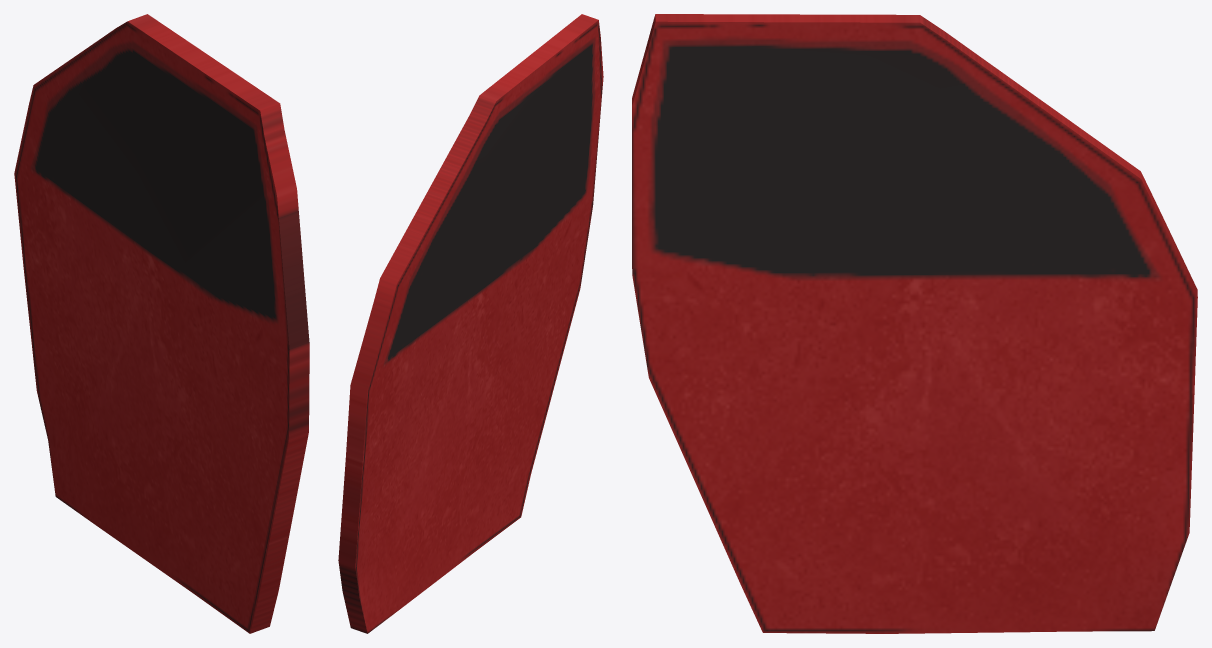
Rendered from door.gltf.
The picture shows the model from 3 angles, left to right: view 1: azimuth 30°, elevation 25°; view 2: azimuth 150°, elevation 25°; view 3: azimuth 270°, elevation 25°; orthographic projection. The views are drawn at different scales.
Parts seen in each view (by area): view 1: TBC-Door; view 2: TBC-Door; view 3: TBC-Door.
Part boxes in pixels (x1,y1,x2,y2): TBC-Door: (14,14,309,633); TBC-Door: (338,14,603,633); TBC-Door: (632,14,1197,633).
Size of the model in its own units: 0.4179 by 3.46 by 2.99.
Materials: 1 (1 with a texture image).
